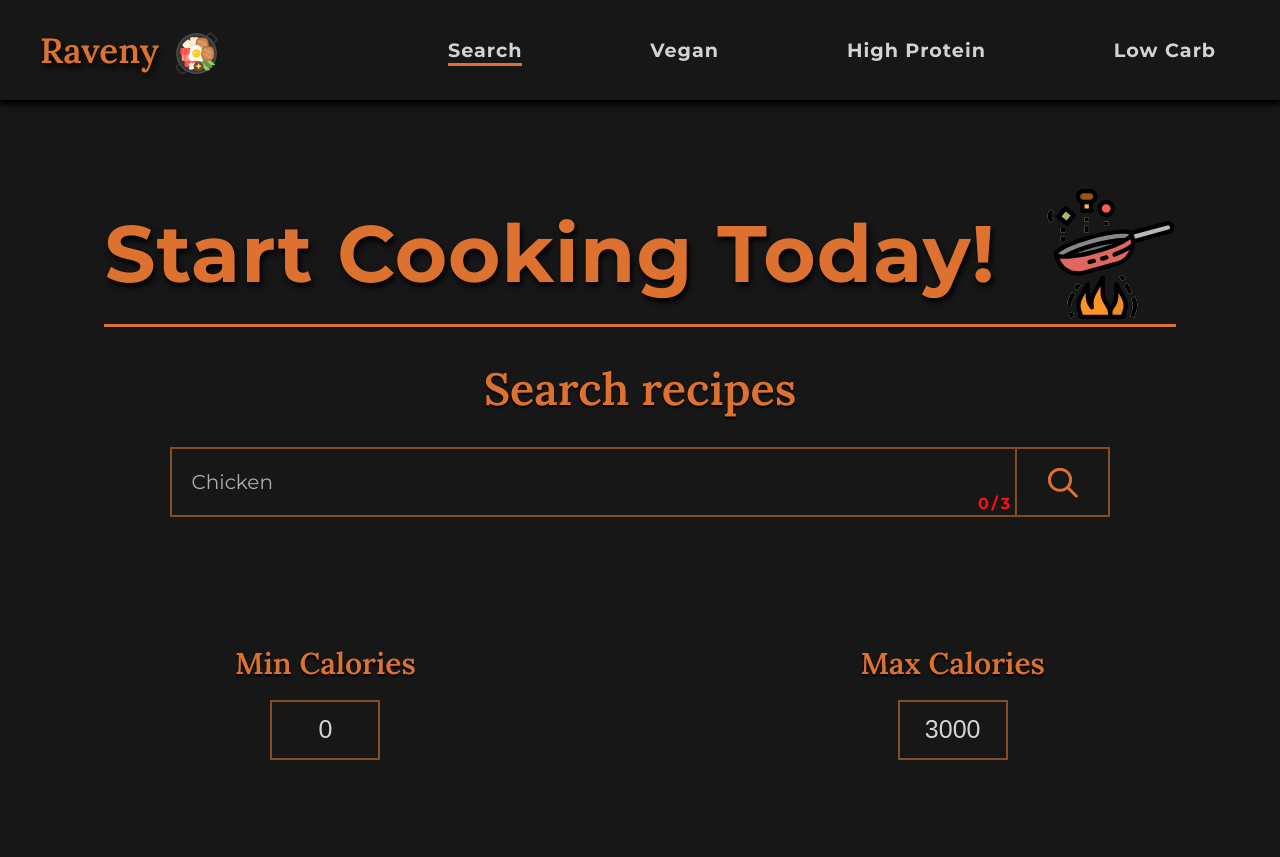
search › should validate calories
Expected: the message named "Length of search value is invalid" is shown, [978,494,1013,513]
Type "chicken" into the field labelled "Search recipes" at (640, 482), box [170,447,1110,517]
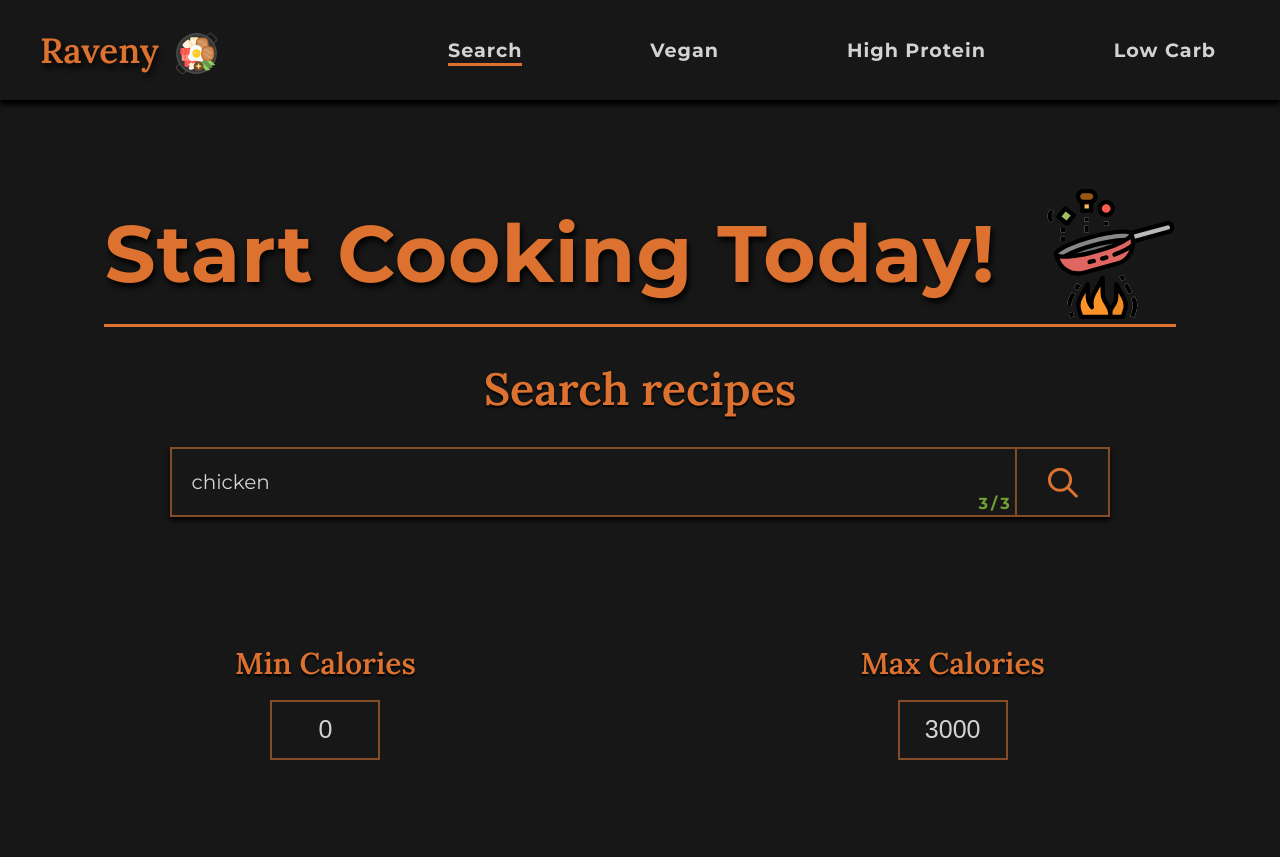
Now the message named "Length of search value is valid" is shown, box [978,494,1013,513]
Replace the text in the field labelled "Min Calories" with "10000" at (326, 730), box [270,700,380,760]
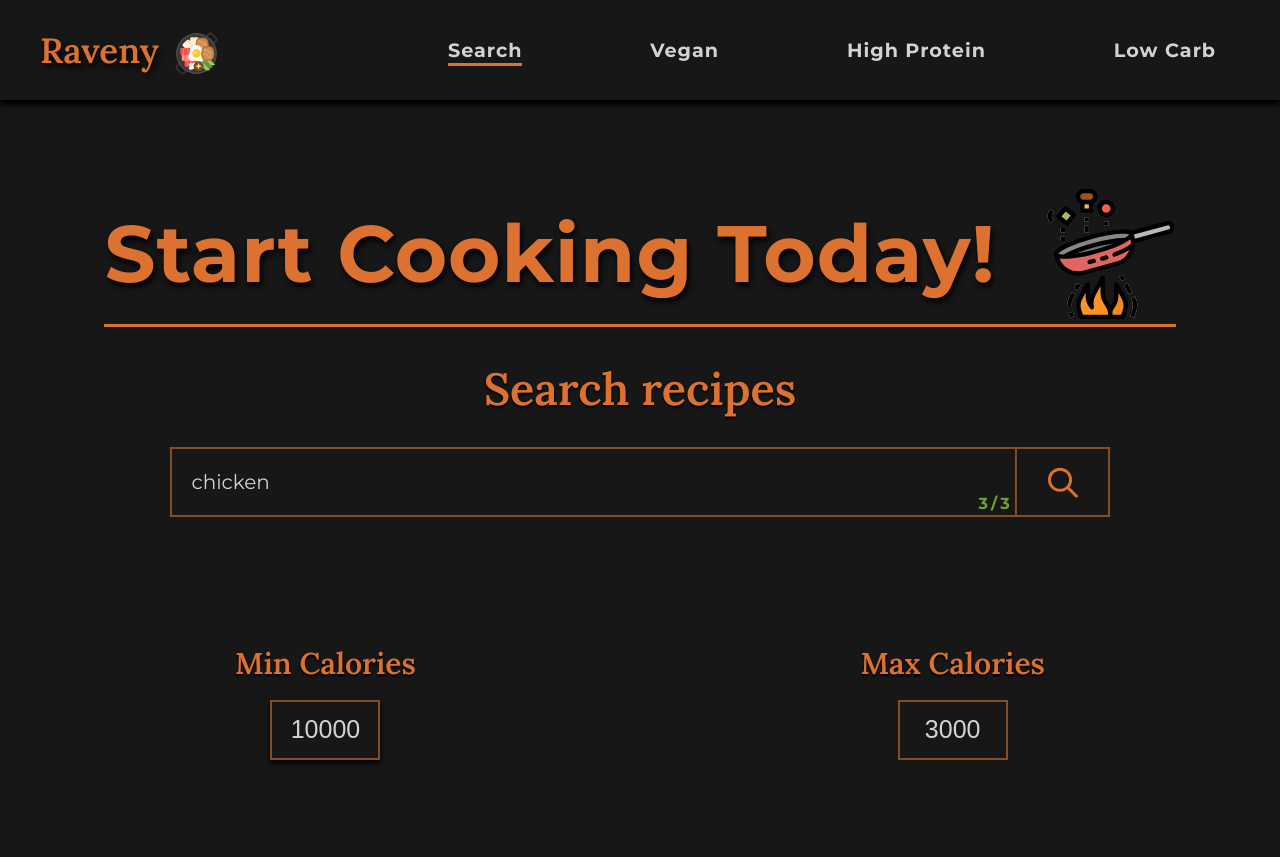
Expected: the message "Minimum Calories must be less than Maximum Calories" is not shown
Click the button named "Search" at (1062, 482), box [1015,448,1110,517]
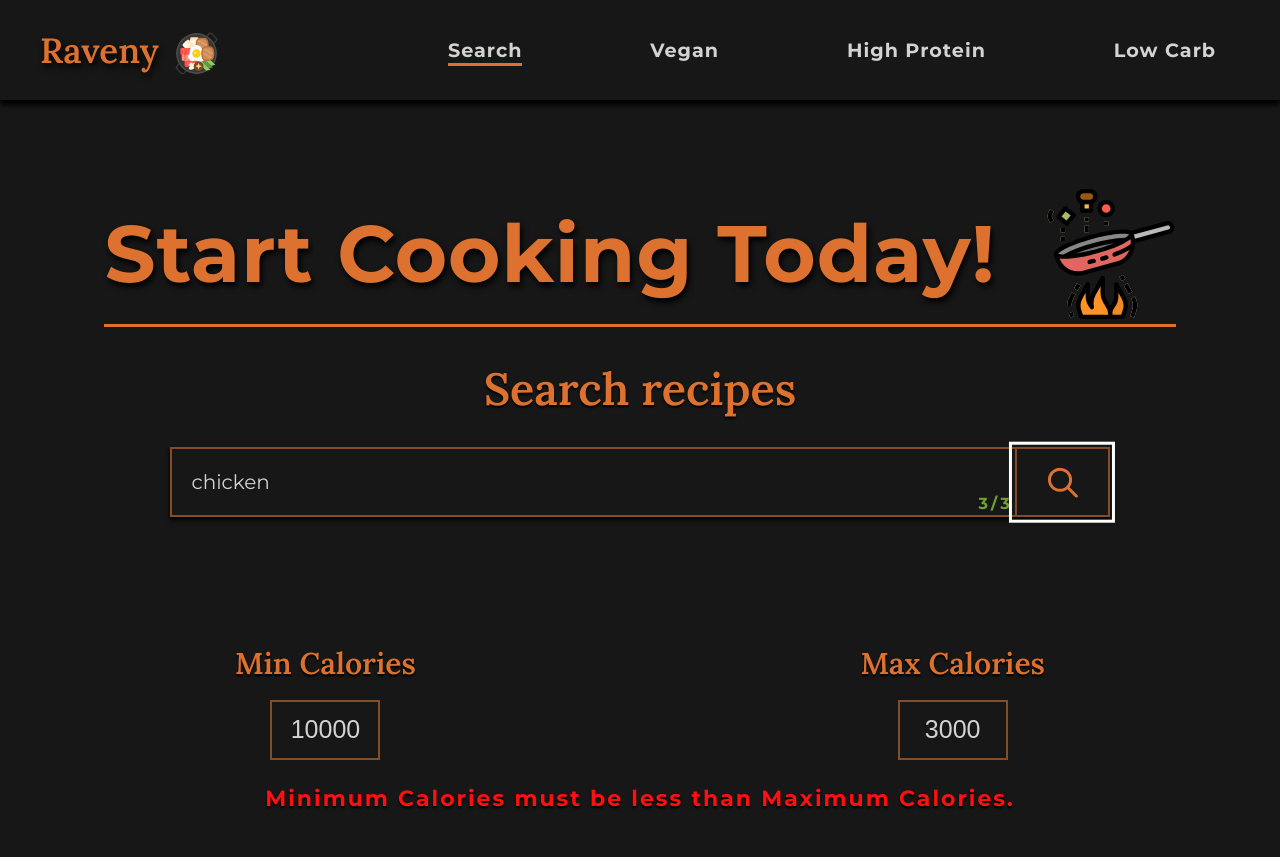
Now the message "Minimum Calories must be less than Maximum Calories." is shown, box [265,785,1015,812]
